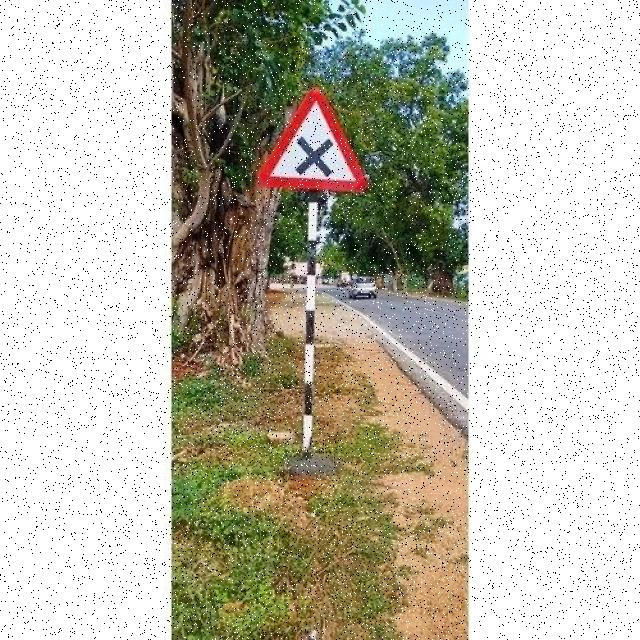Crossroads: (261, 96, 366, 186)
